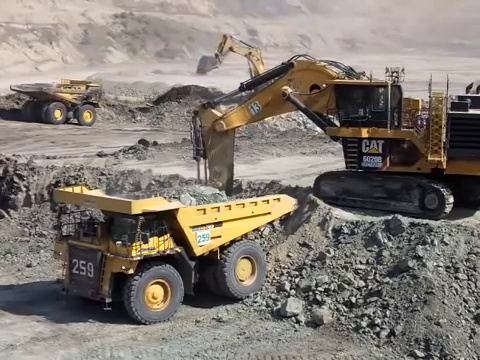dumper: (51, 185, 299, 324), (11, 78, 103, 125)
excavator: (189, 57, 480, 220), (196, 34, 279, 104)
